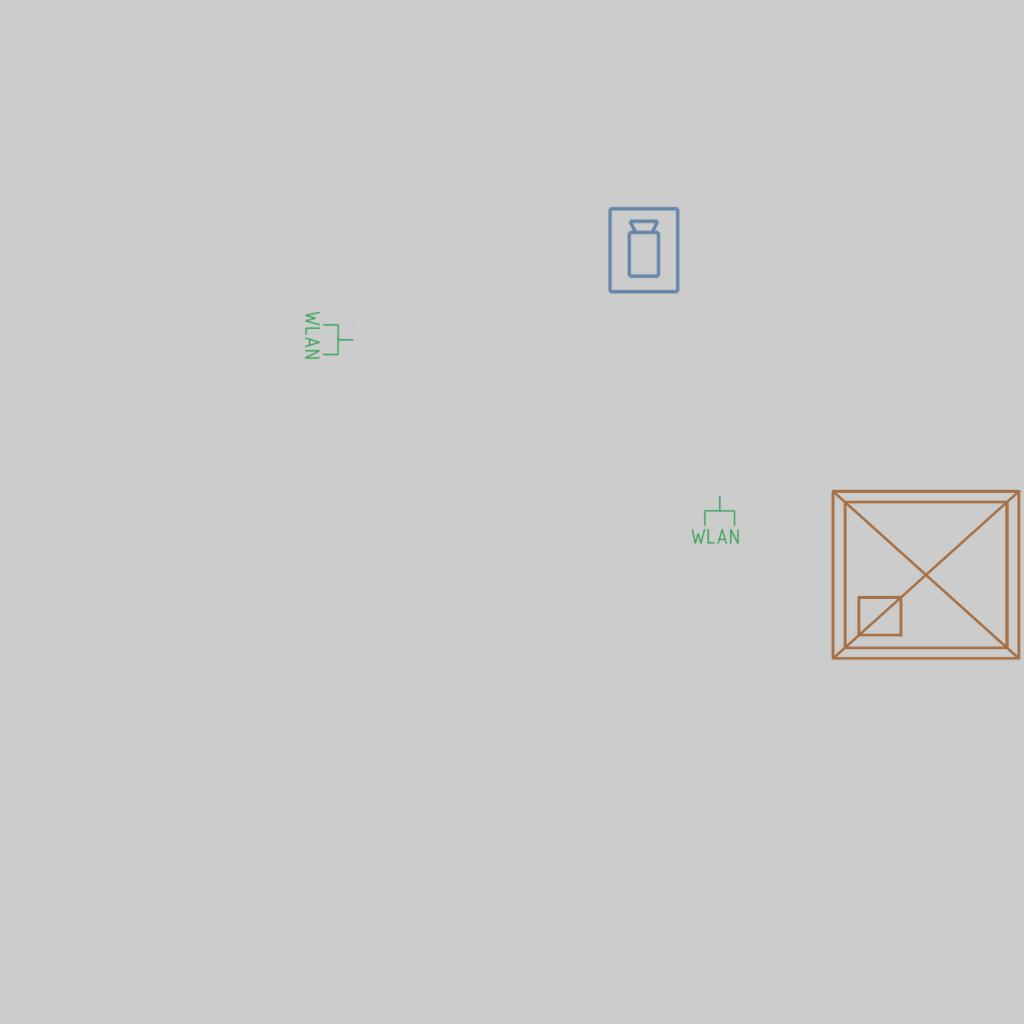Einbaudownlights_LED_Konferenzraeume: (817, 467, 1024, 675)
KFO_Kamera_mit_Festobjektiv: (606, 205, 683, 296)
WLAN: (689, 494, 741, 546), (303, 309, 355, 361)
